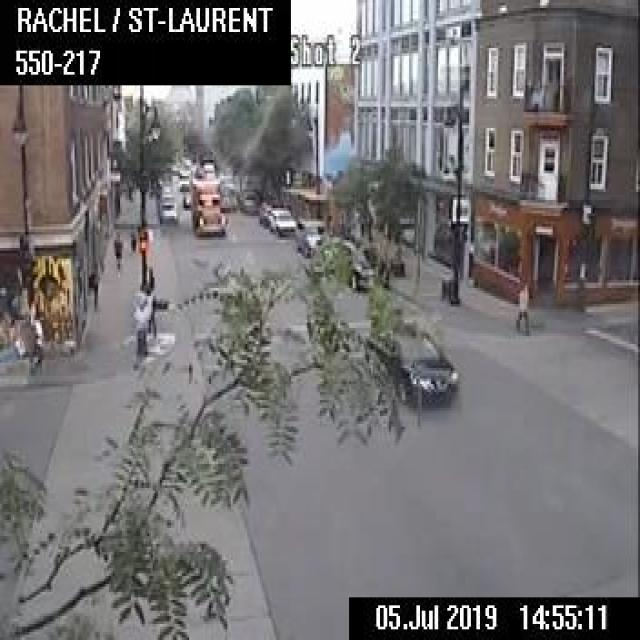pedestrian: (131, 294, 148, 362), (27, 306, 44, 362), (515, 280, 527, 336), (86, 269, 98, 320), (111, 227, 122, 272)
vehicle: (391, 326, 456, 406), (336, 236, 382, 286), (190, 170, 225, 234), (296, 214, 327, 255), (269, 207, 295, 233), (239, 189, 260, 212), (159, 198, 176, 220)
